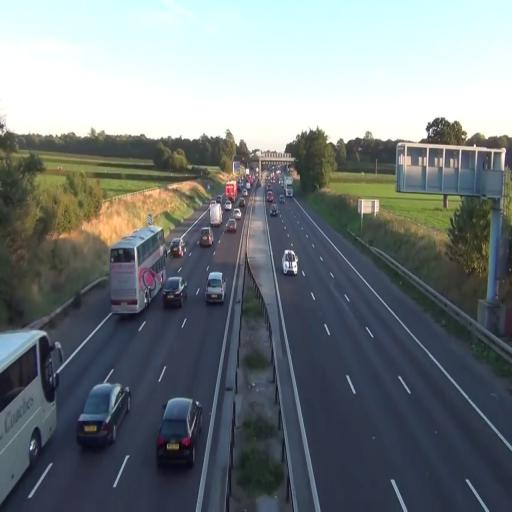vehicle: (0, 328, 63, 506), (109, 226, 166, 316), (76, 381, 132, 449), (156, 397, 203, 469), (162, 274, 188, 310), (206, 270, 226, 304), (282, 248, 298, 275), (200, 225, 214, 249), (224, 213, 238, 233)
